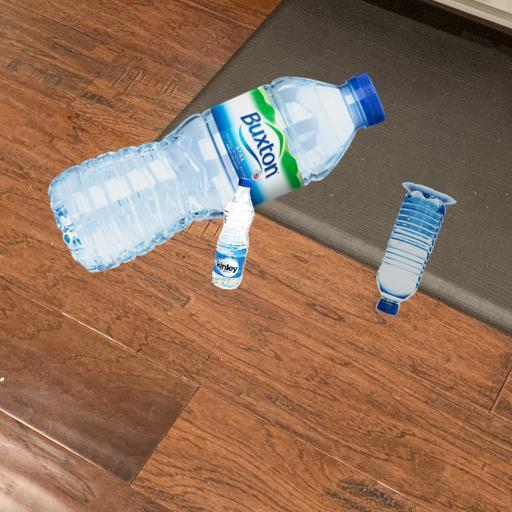bottle: (41, 57, 391, 279), (359, 178, 461, 329), (202, 181, 266, 295)
